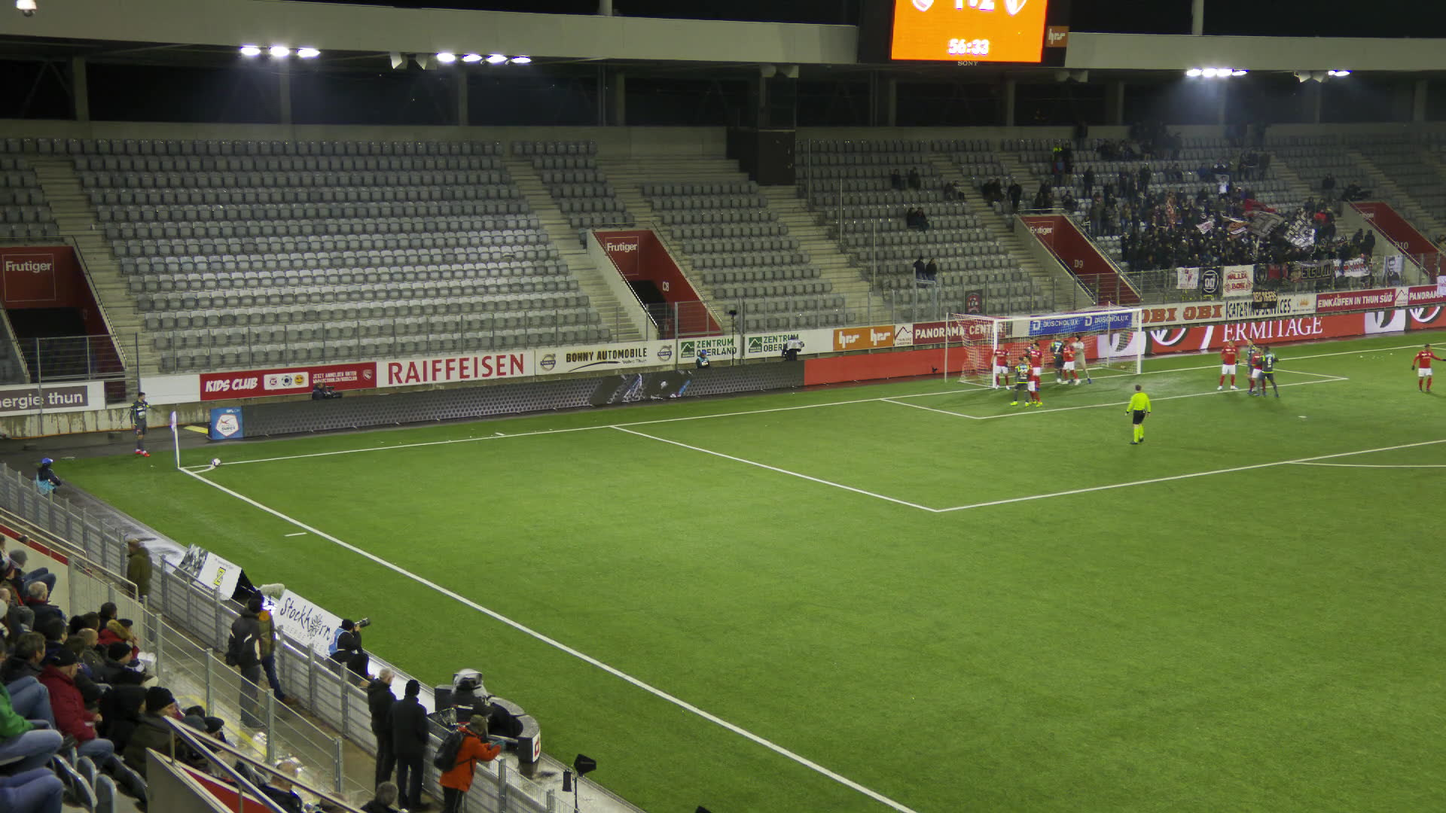ball: (211, 457, 221, 466)
player: (127, 389, 163, 457), (1409, 342, 1445, 395), (1253, 343, 1280, 398), (1216, 339, 1241, 392), (1066, 333, 1092, 383), (1246, 344, 1269, 397), (1011, 355, 1033, 408), (989, 340, 1011, 390), (1022, 353, 1042, 407), (1020, 346, 1042, 393), (1059, 339, 1080, 386), (1023, 342, 1042, 391), (1240, 336, 1256, 392), (1049, 333, 1066, 385), (1023, 336, 1040, 385)
referee: (1124, 382, 1152, 445)
